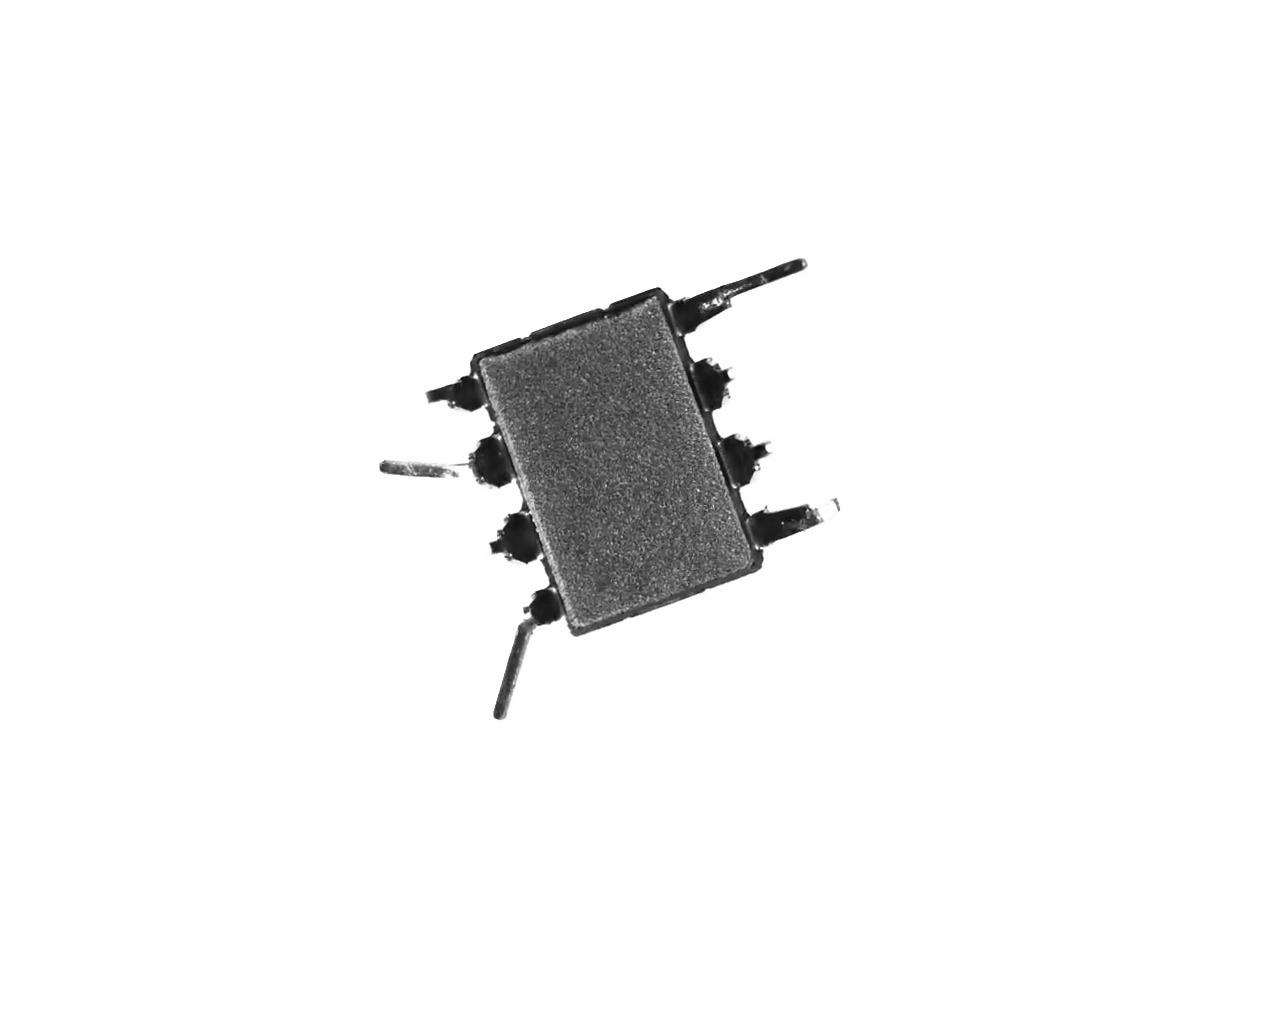Leg: (657, 236, 813, 344), (490, 583, 578, 731), (365, 433, 528, 507), (728, 486, 839, 568)
brokenLeg: (415, 374, 512, 421), (714, 427, 785, 489), (486, 506, 553, 567), (692, 347, 738, 414)
